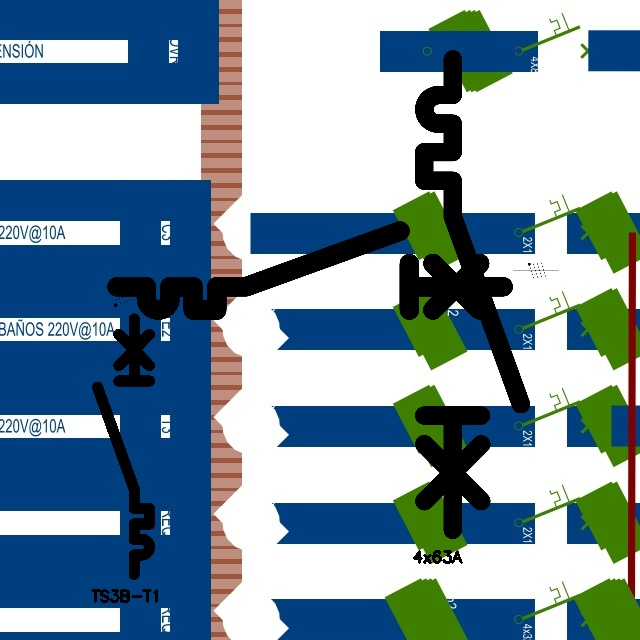interruptor_termomagnetico: (412, 47, 533, 542), (107, 221, 513, 320), (91, 312, 156, 580)
